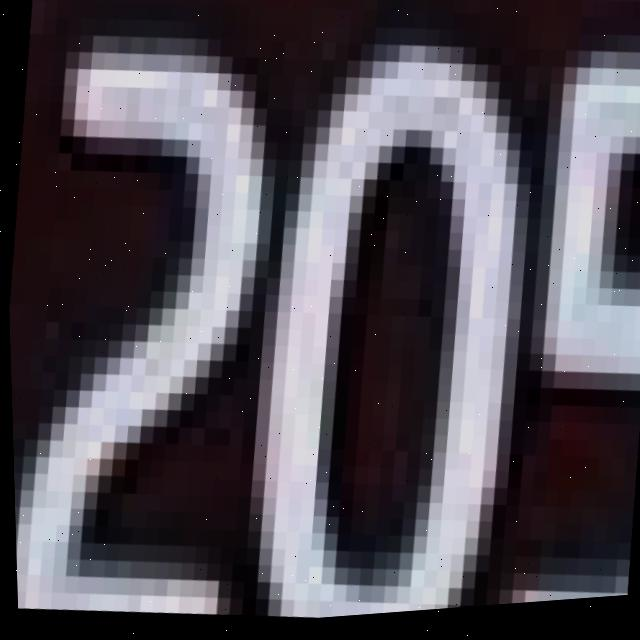character: (224, 4, 558, 623), (1, 0, 290, 630), (479, 24, 640, 605)
